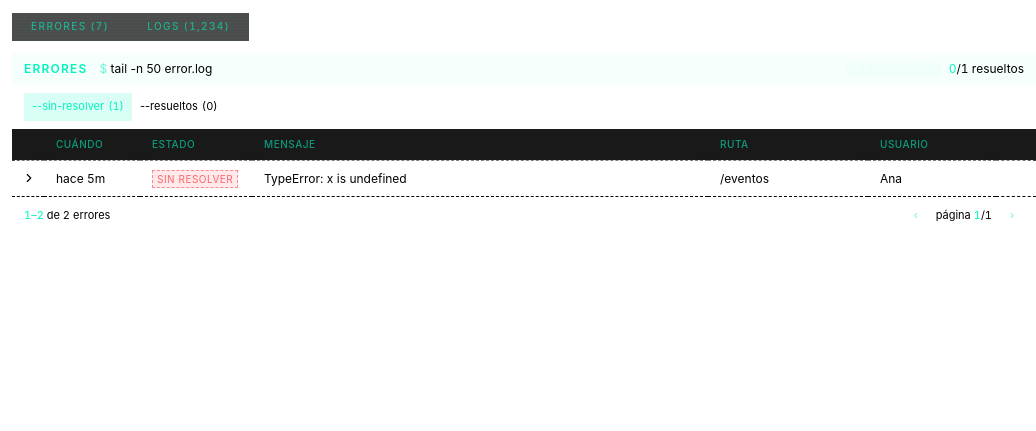
Test case: MonitoringClient › opens on the errors tab and switches to logs
Expected: the tab "errores (7)" is shown, 12,12 -> 128,40
Click the tab "logs (1,234)" at (189, 26), box 128,12 -> 249,40
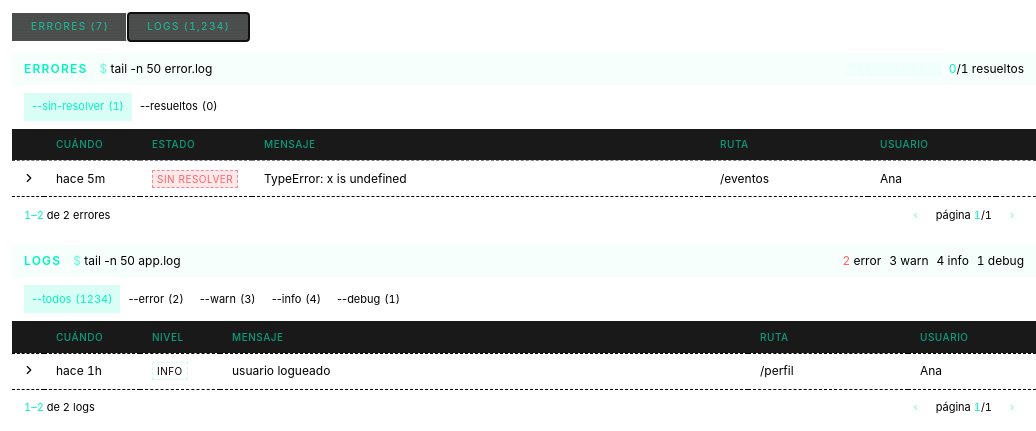
Now the text "usuario logueado" is shown, box 232,363 -> 330,378
